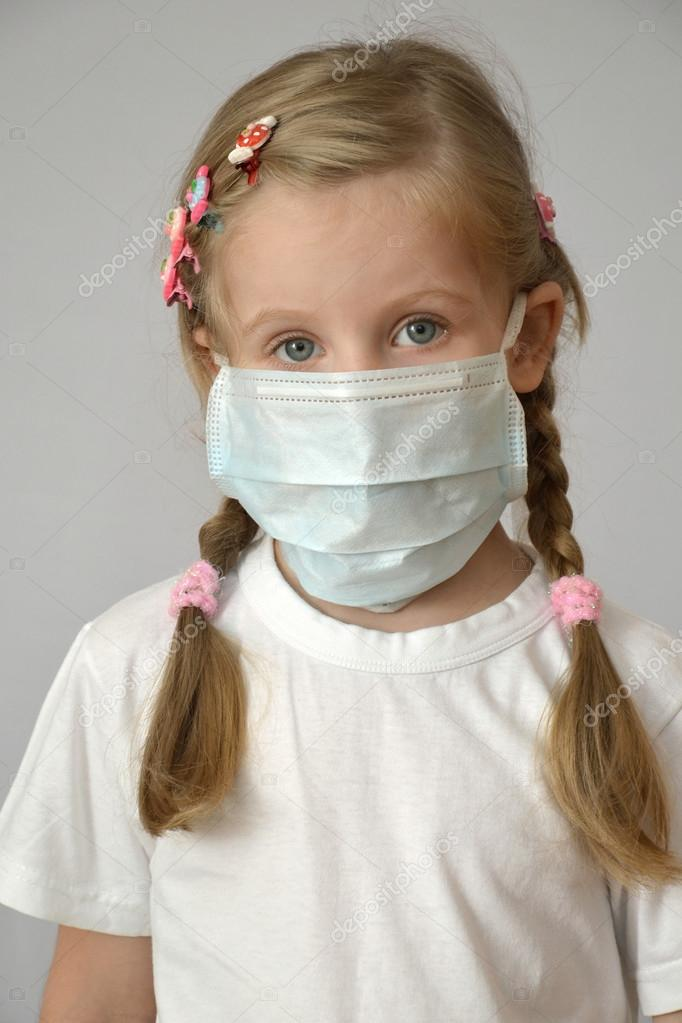surgical: (198, 355, 567, 617)
